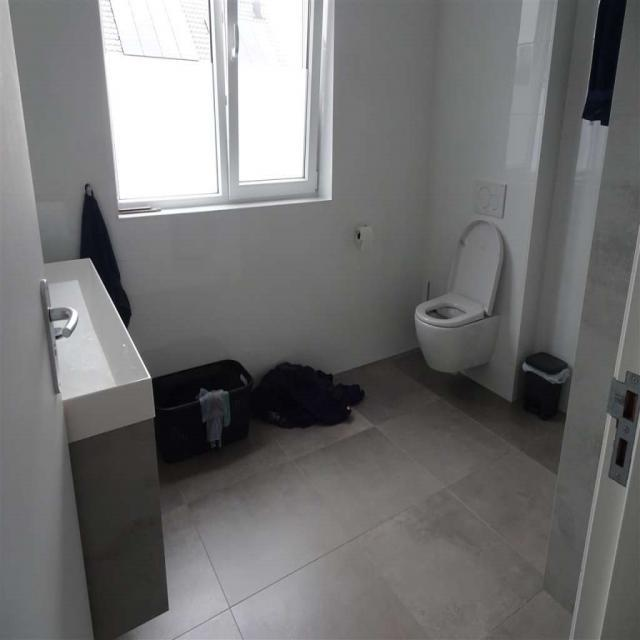toilet: (409, 174, 508, 378)
wastafel: (2, 253, 158, 438), (59, 407, 173, 640)
